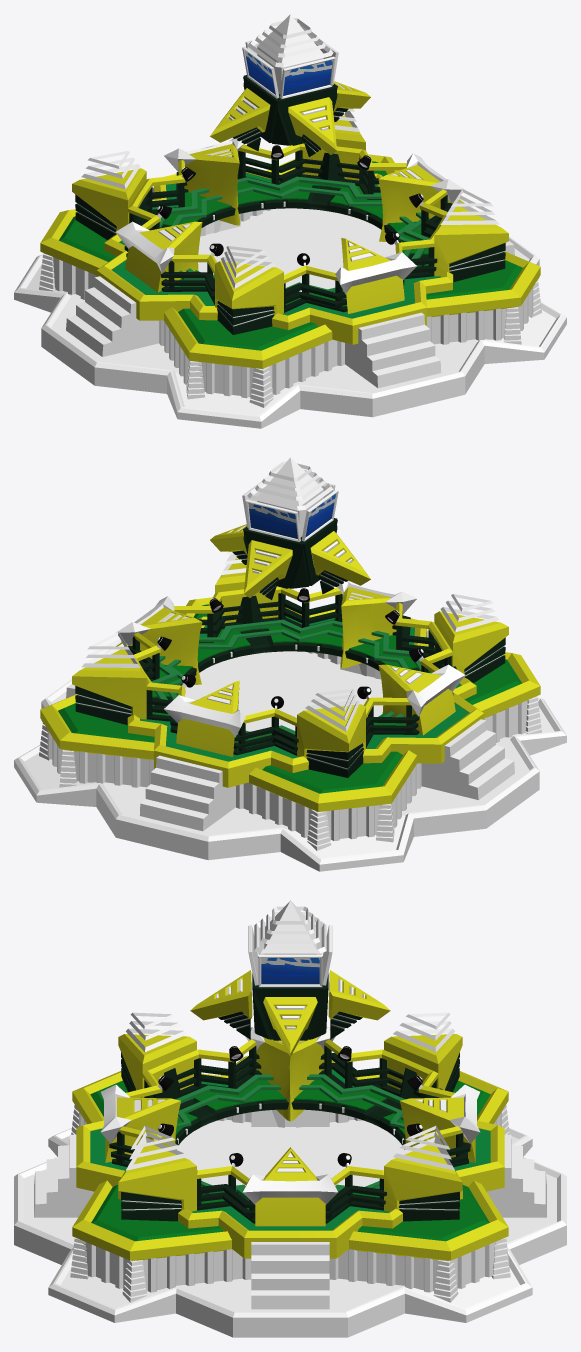
The model's file is arenastrike.fbx.
The picture shows the model from 3 angles, top to bottom: view 1: azimuth 30°, elevation 25°; view 2: azimuth 150°, elevation 25°; view 3: azimuth 270°, elevation 25°; orthographic projection. The views are drawn at different scales.
Visible parts, largest first — view 1: pCube18, group13_polySurface32, group7_polySurface5, polySurface45, pCube9, group13_polySurface33, group7_polySurface17, group10_polySurface13, group19, group16, polySurface46, polySurface11 (+10 smaller); view 2: pCube18, group13_polySurface32, group7_polySurface5, polySurface45, pCube9, group13_polySurface33, group7_polySurface17, group10_polySurface13, group19, group16, polySurface46, polySurface11 (+10 smaller); view 3: pCube18, group13_polySurface32, group7_polySurface5, pCube9, polySurface45, group13_polySurface33, group7_polySurface17, group10_polySurface13, group19, group16, polySurface42, polySurface46 (+10 smaller).
Part boxes in pixels (x1=…): pCube18: x1=14, y1=208, x2=566, y2=428; group13_polySurface32: x1=40, y1=154, x2=540, y2=368; group7_polySurface5: x1=72, y1=115, x2=508, y2=334; polySurface45: x1=125, y1=144, x2=452, y2=313; pCube9: x1=66, y1=186, x2=514, y2=388; group13_polySurface33: x1=52, y1=209, x2=533, y2=398; group7_polySurface17: x1=112, y1=173, x2=440, y2=318; group10_polySurface13: x1=96, y1=166, x2=464, y2=344; group19: x1=210, y1=81, x2=370, y2=156; group16: x1=128, y1=143, x2=447, y2=312; polySurface46: x1=124, y1=157, x2=452, y2=307; polySurface11: x1=115, y1=138, x2=464, y2=294; pCube18: x1=14, y1=651, x2=566, y2=871; group13_polySurface32: x1=40, y1=597, x2=540, y2=811; group7_polySurface5: x1=72, y1=558, x2=508, y2=777; polySurface45: x1=130, y1=587, x2=455, y2=756; pCube9: x1=66, y1=629, x2=514, y2=831; group13_polySurface33: x1=47, y1=652, x2=528, y2=841; group7_polySurface17: x1=140, y1=616, x2=468, y2=761; group10_polySurface13: x1=116, y1=607, x2=484, y2=787; group19: x1=210, y1=524, x2=370, y2=599; group16: x1=133, y1=586, x2=452, y2=755; polySurface46: x1=128, y1=599, x2=456, y2=750; polySurface11: x1=116, y1=581, x2=464, y2=737; pCube18: x1=14, y1=1119, x2=566, y2=1337; group13_polySurface32: x1=72, y1=1071, x2=508, y2=1260; group7_polySurface5: x1=118, y1=1034, x2=462, y2=1221; pCube9: x1=34, y1=1110, x2=546, y2=1309; polySurface45: x1=105, y1=1037, x2=475, y2=1226; group13_polySurface33: x1=79, y1=1109, x2=501, y2=1292; group7_polySurface17: x1=90, y1=1069, x2=490, y2=1230; group10_polySurface13: x1=76, y1=1055, x2=504, y2=1258; group19: x1=190, y1=970, x2=390, y2=1056; group16: x1=112, y1=1039, x2=468, y2=1223; polySurface42: x1=126, y1=1012, x2=454, y2=1170; polySurface46: x1=109, y1=1053, x2=470, y2=1216.
Size of the model in its own units: 45.95 by 29.38 by 45.95.
Materials: 12 (3 with a texture image).
